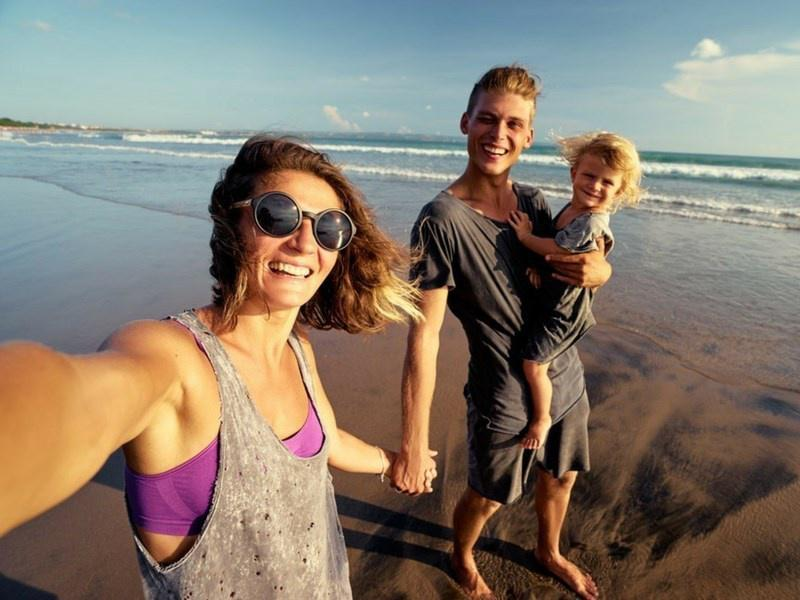face: (246, 170, 345, 306), (468, 90, 529, 175), (572, 155, 621, 208)
